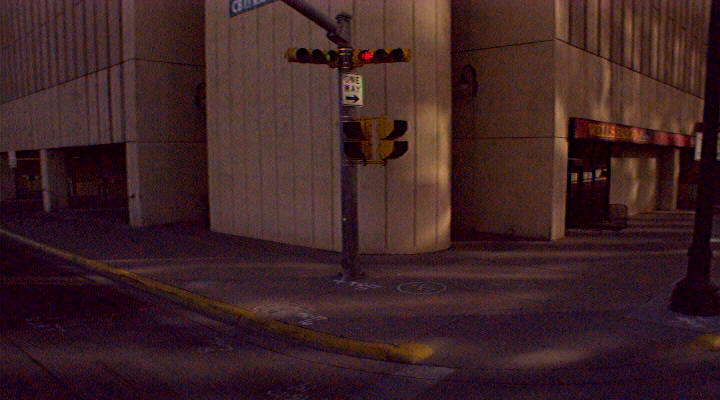Ramp: (383, 289, 720, 373)
